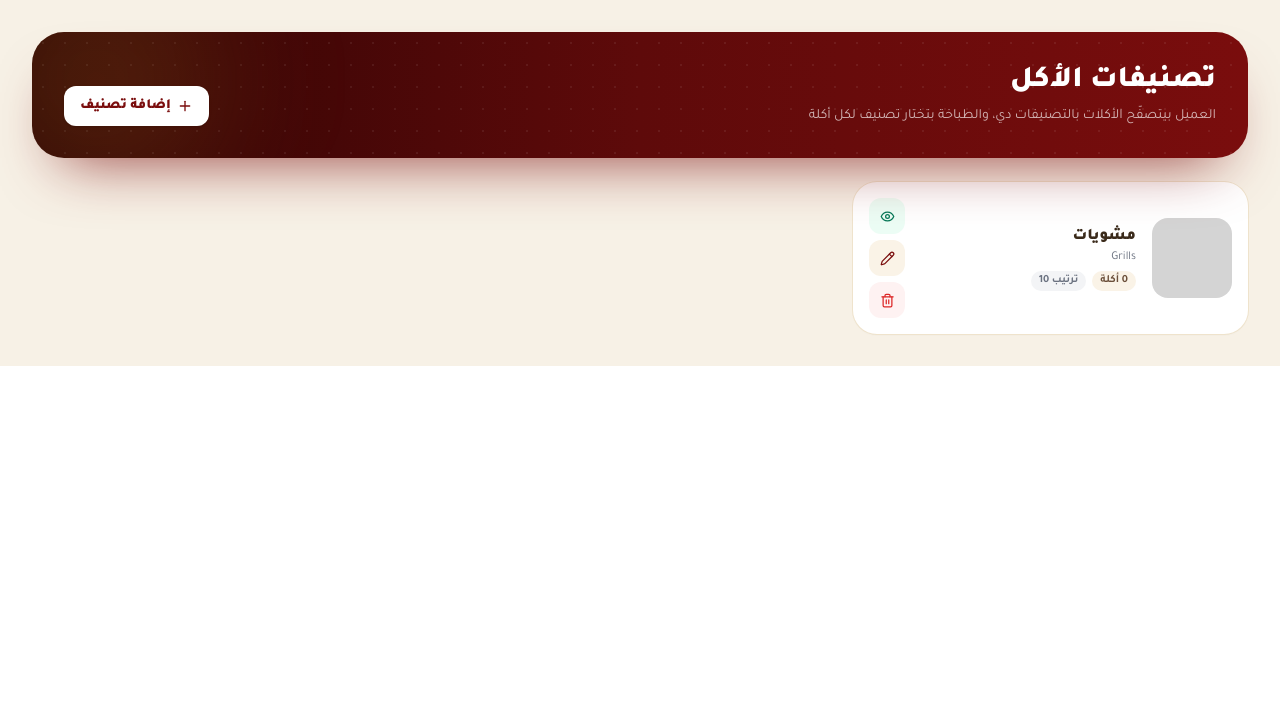
Test: Food categories › keeps the dialog open with the server message on a duplicate name
Expected: the text "مشويات" is shown, [1072,229,1136,245]
Click the button "إضافة تصنيف" at (136, 106), box [64,86,209,126]
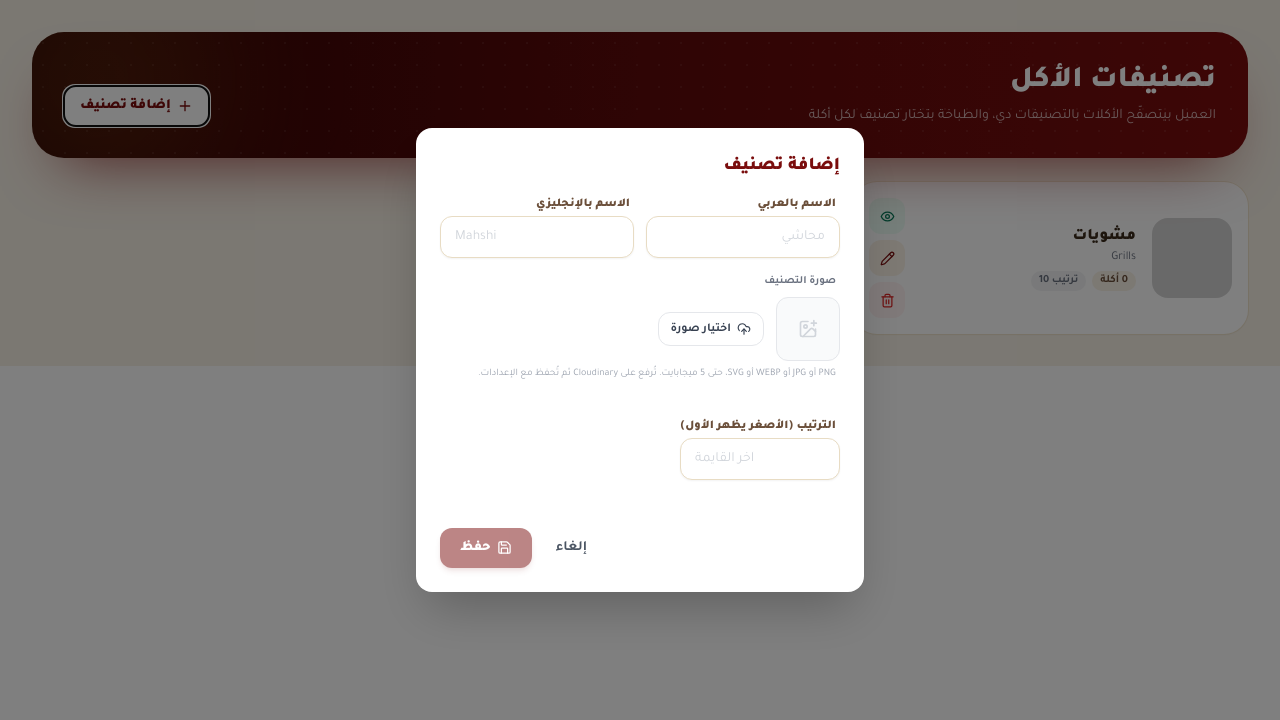
Type "مشويات" into the field labelled "الاسم بالعربي" at (743, 237), box [646,216,840,258]
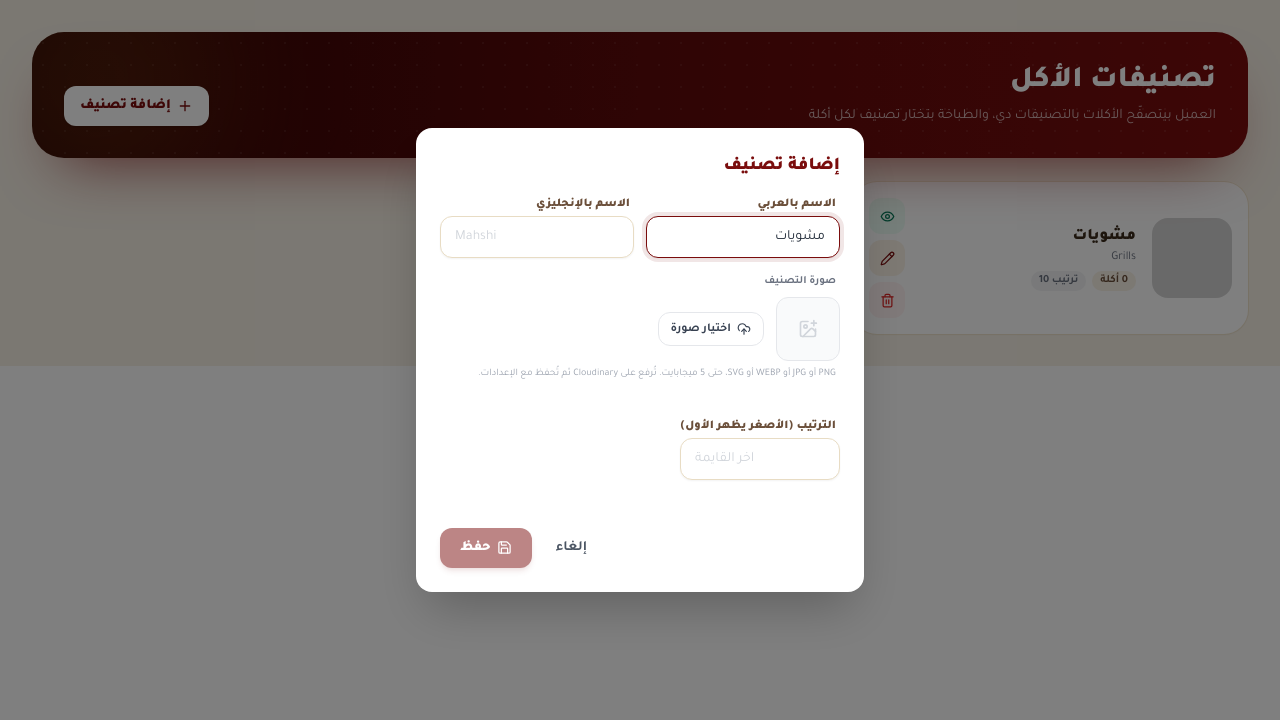
Type "Grills" into the field labelled "الاسم بالإنجليزي" at (537, 237), box [440,216,634,258]
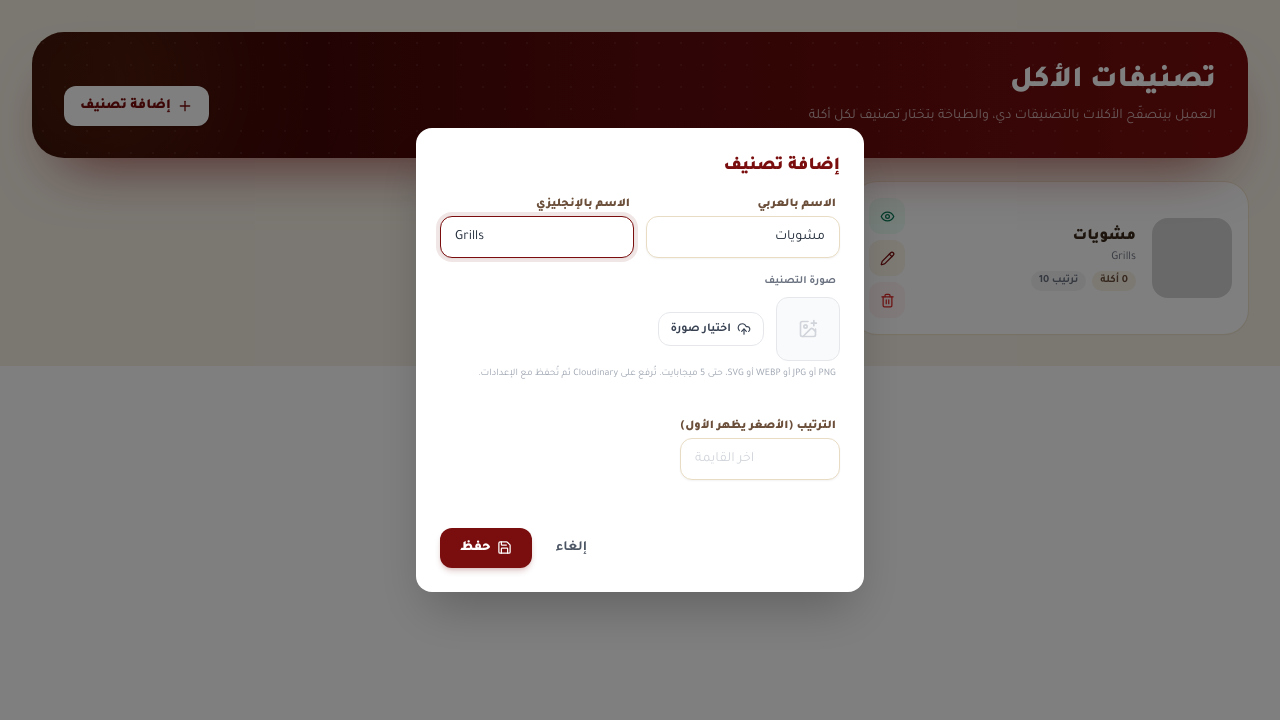
Click the button "حفظ" at (486, 548), box [440,528,532,568]
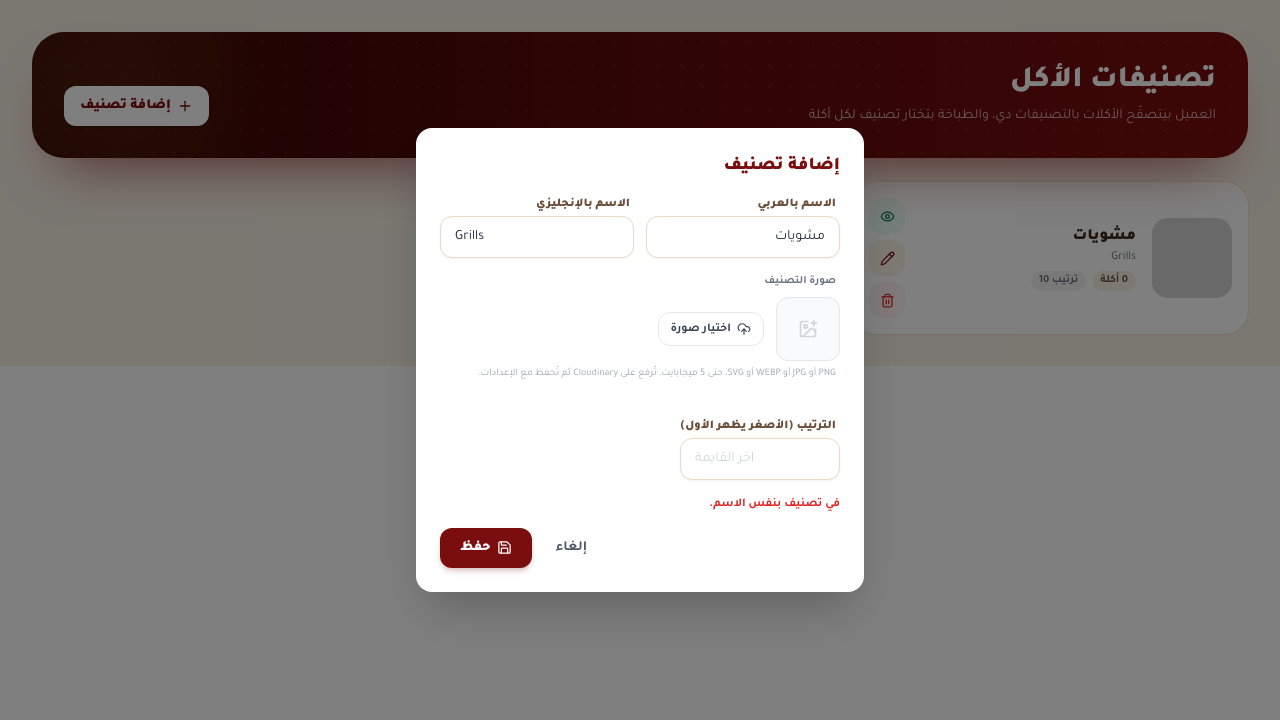
Now the text "في تصنيف بنفس الاسم." is shown, box [709,498,840,510]
